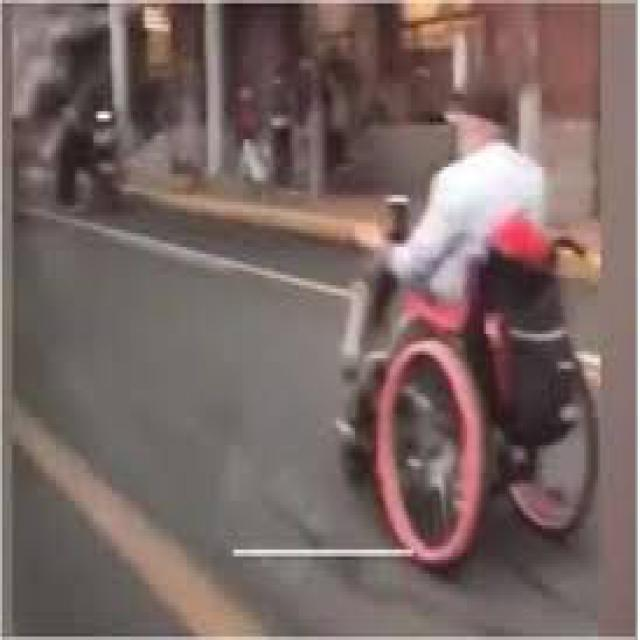wheelchairs: (324, 212, 620, 571)
